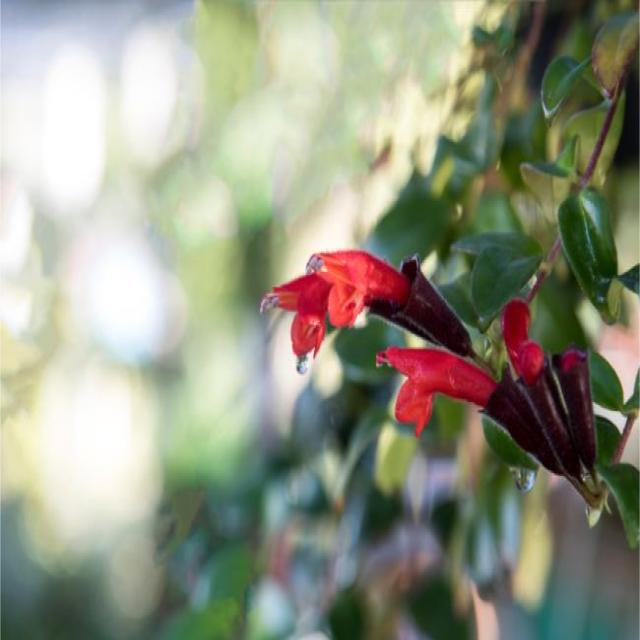Lipstick-Plant: (237, 201, 616, 516)
